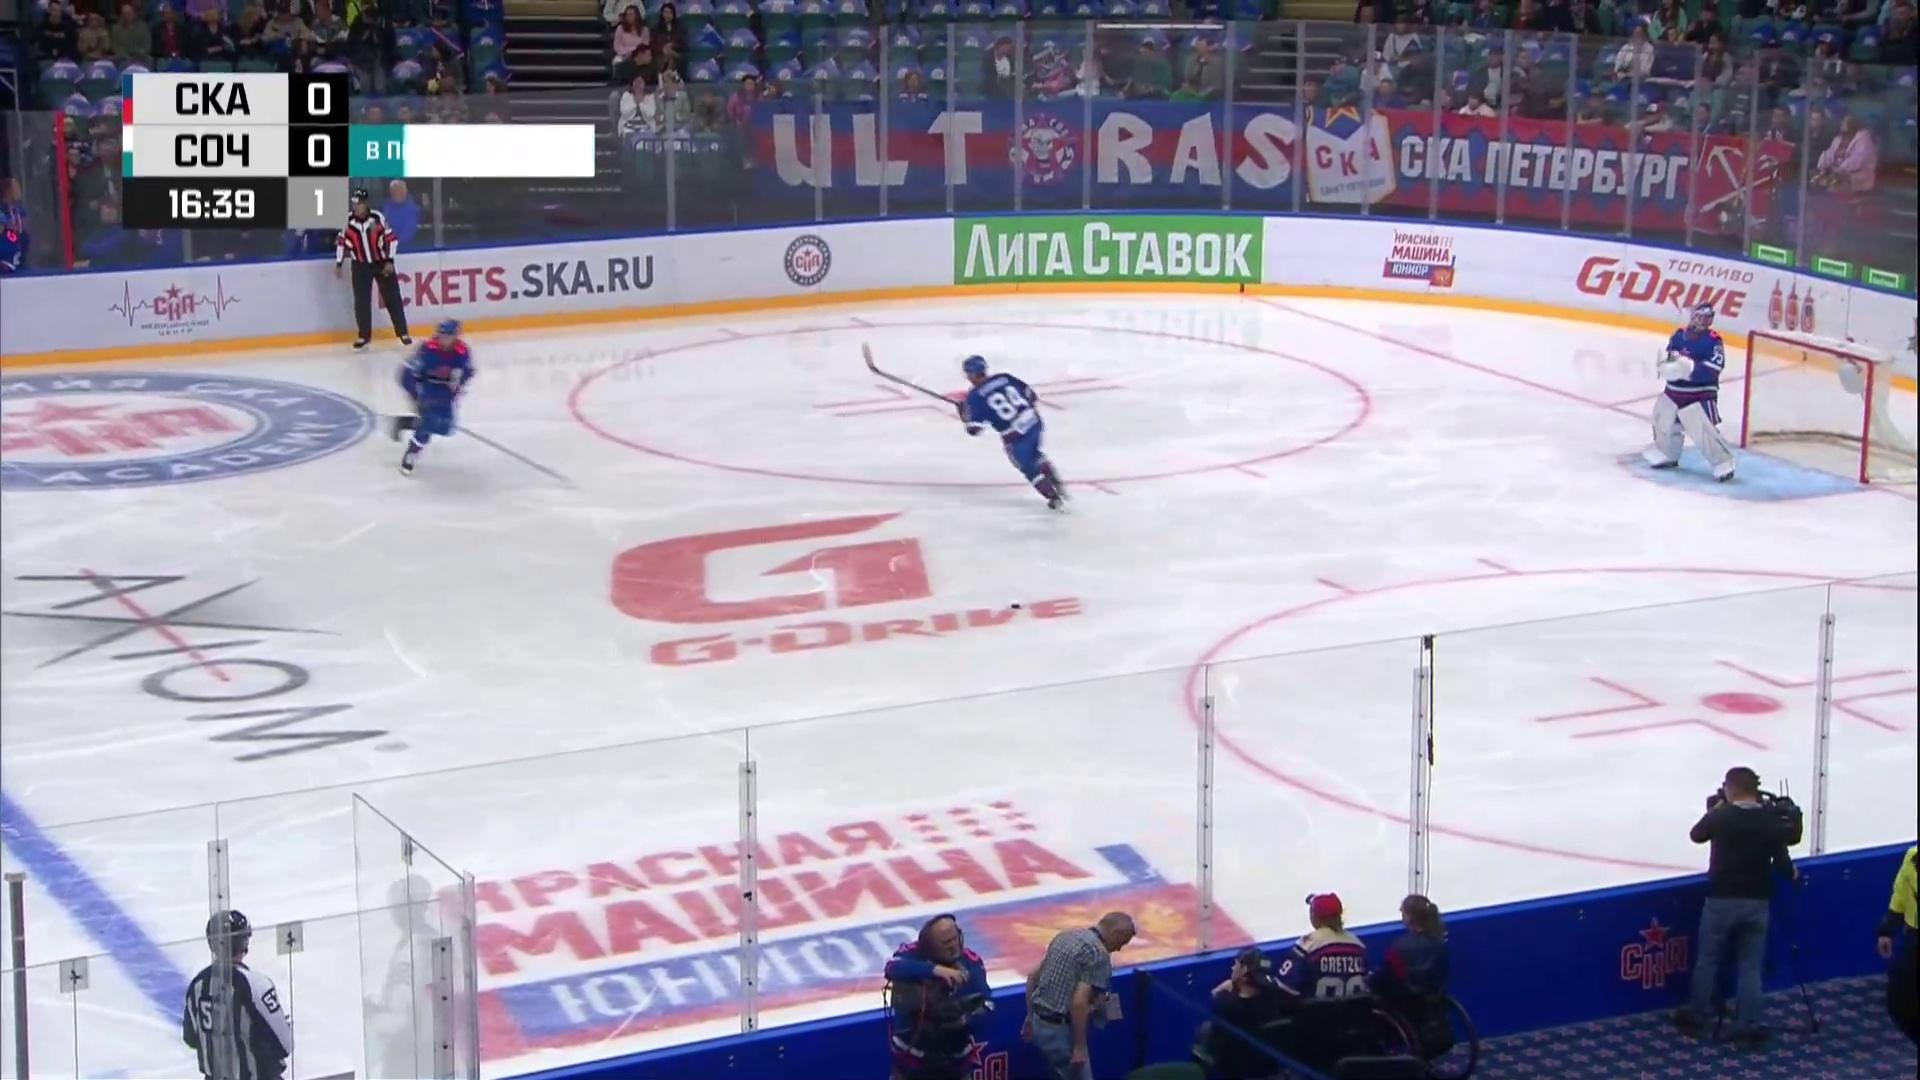ball: (1010, 603, 1021, 609)
